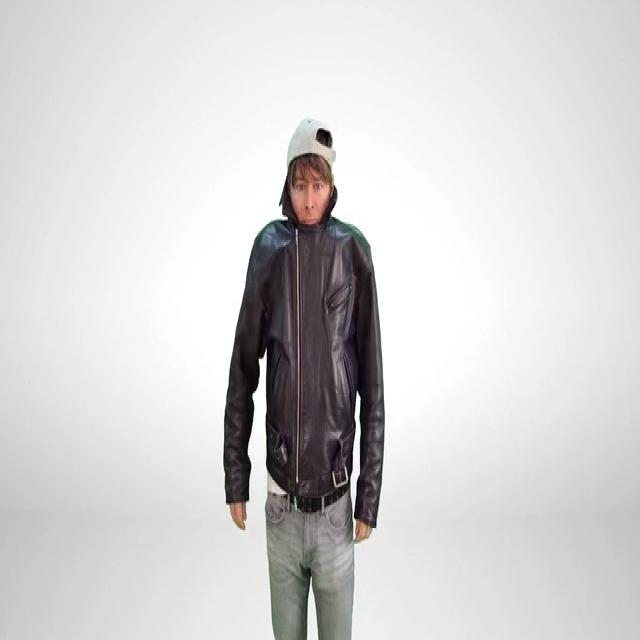Jacket_Wearer: (219, 219, 388, 541)
Person: (209, 115, 389, 640)
